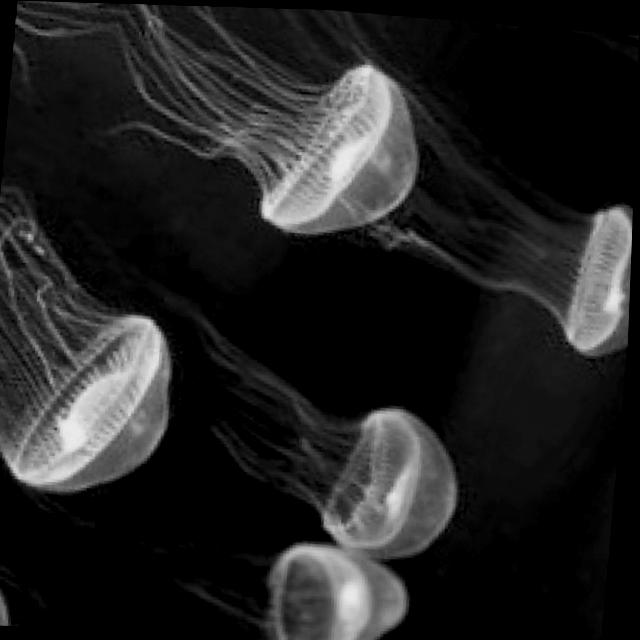Moon-jellyfish: (0, 0, 640, 354), (0, 180, 194, 503)
